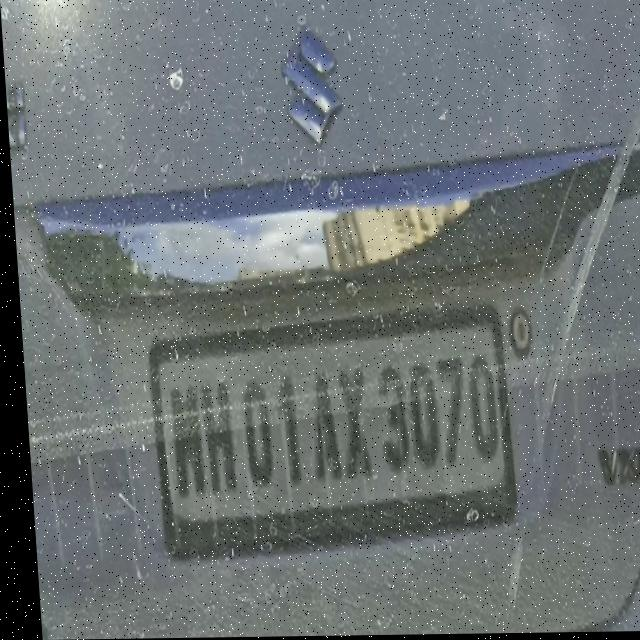plate: (141, 302, 515, 559)
